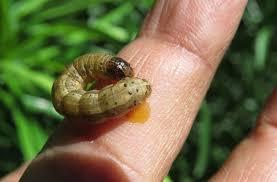fallarmy_worm: (48, 51, 155, 126)
